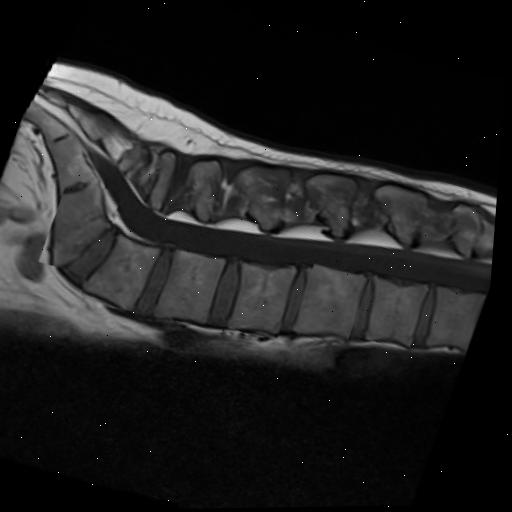L1: (369, 278, 430, 344)
L2: (297, 264, 370, 338)
L3: (231, 263, 298, 331)
L4: (158, 249, 228, 323)
L5: (86, 234, 163, 310)
S1: (55, 184, 113, 267)
